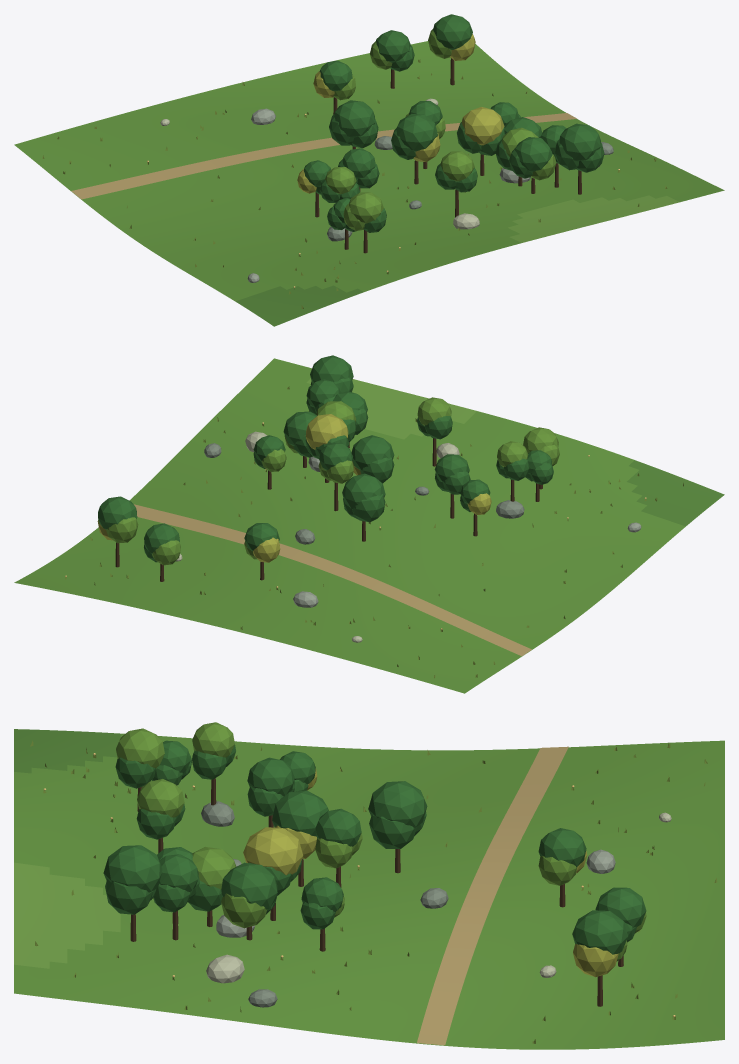
The model's file is Chunk_X-3_Y0_Z-1.fbx.
3 renders of one model, top to bottom at view 1: azimuth 30°, elevation 25°; view 2: azimuth 150°, elevation 25°; view 3: azimuth 270°, elevation 25°, orthographic. The views are drawn at different scales.
Parts seen in each view (by area): view 1: Terrain.002, Canopies.002, Path, Rocks.002, Trunks.002, GroundCover.002; view 2: Terrain.002, Canopies.002, Path, Rocks.002, Trunks.002, GroundCover.002; view 3: Terrain.002, Canopies.002, Path, Rocks.002, Trunks.002, GroundCover.002.
Part boxes in pixels (<box>): Terrain.002: <box>14,41,724,326</box>; Canopies.002: <box>297,14,604,232</box>; Path: <box>71,113,576,199</box>; Rocks.002: <box>160,98,613,282</box>; Trunks.002: <box>315,58,581,253</box>; GroundCover.002: <box>42,59,667,308</box>; Terrain.002: <box>14,358,724,693</box>; Canopies.002: <box>97,355,559,565</box>; Path: <box>134,504,531,656</box>; Rocks.002: <box>175,431,641,642</box>; Trunks.002: <box>115,438,542,581</box>; GroundCover.002: <box>65,386,683,678</box>; Terrain.002: <box>14,729,724,1049</box>; Canopies.002: <box>103,722,646,977</box>; Path: <box>417,746,568,1045</box>; Rocks.002: <box>201,801,671,1007</box>; Trunks.002: <box>130,778,623,1006</box>; GroundCover.002: <box>30,740,717,1043</box>.
Bounding box in the file's own units: 100 × 21.11 × 100.
